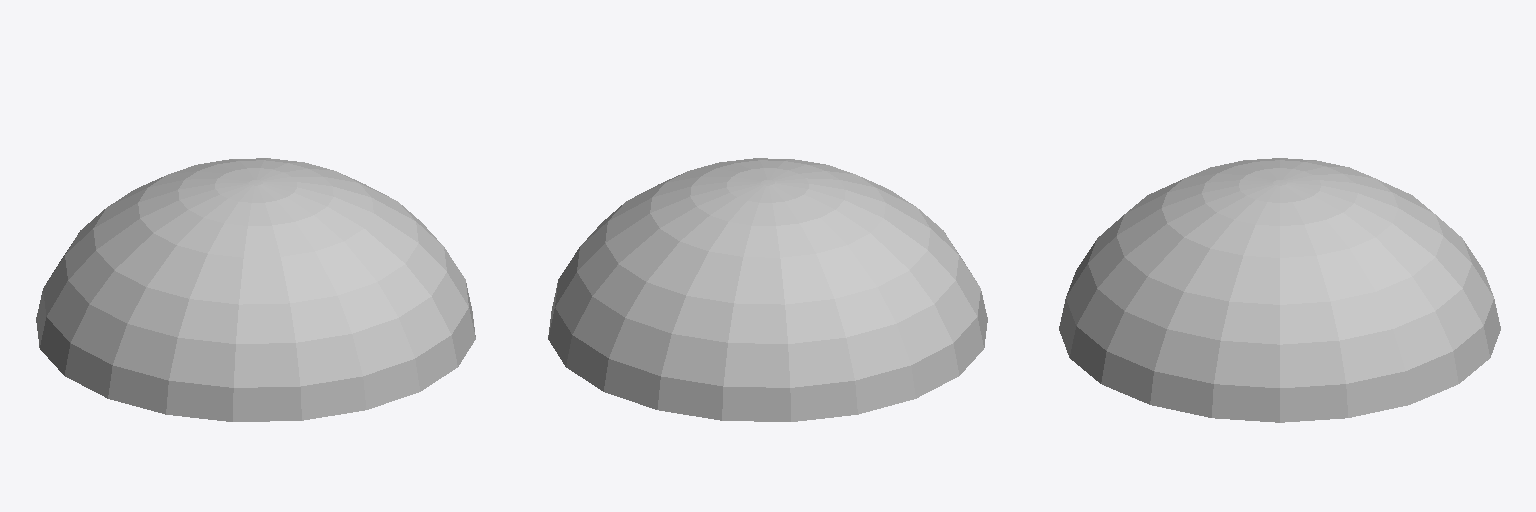
File: kappa_pond_bg_sky.obj
The picture shows the model from 3 angles: view 1: azimuth 30°, elevation 25°; view 2: azimuth 150°, elevation 25°; view 3: azimuth 270°, elevation 25°; orthographic projection.
Bounding box in the file's own units: 12000 × 4391 × 12000.